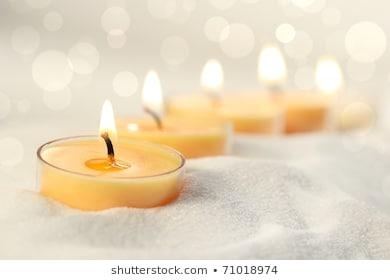fire: (138, 66, 167, 123), (312, 53, 344, 95), (95, 96, 119, 145)
